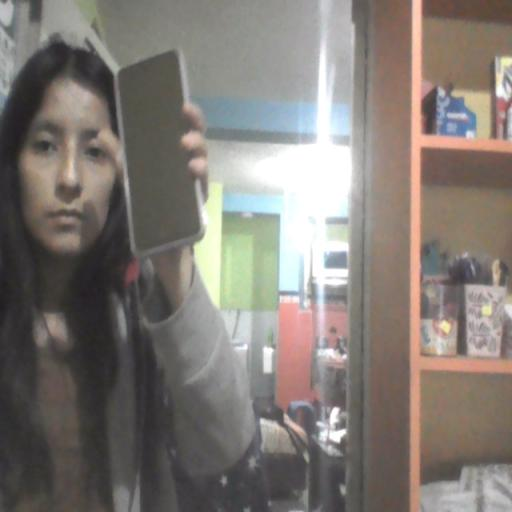phone: (112, 38, 208, 262)
